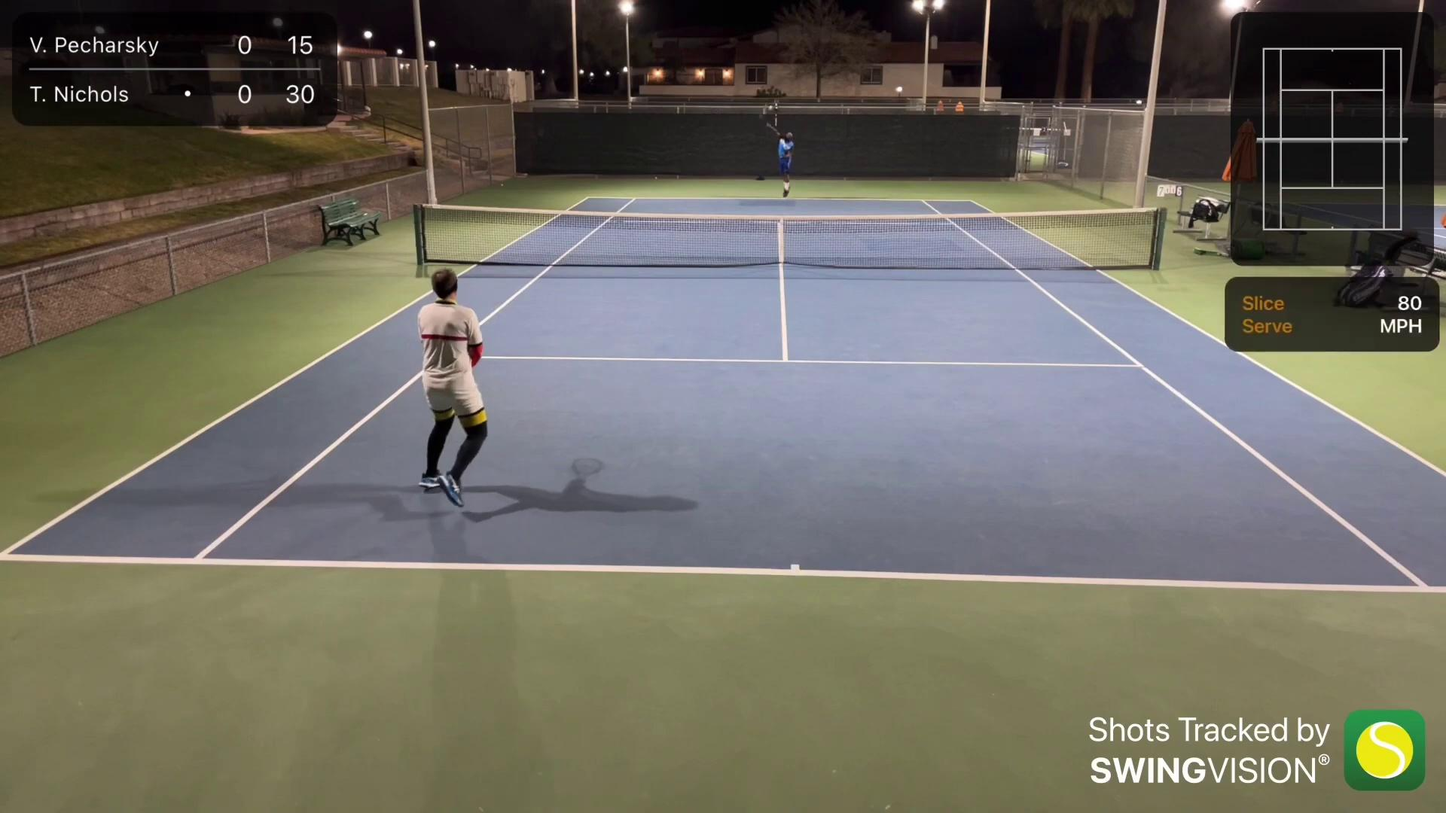ball: (767, 105, 774, 111)
